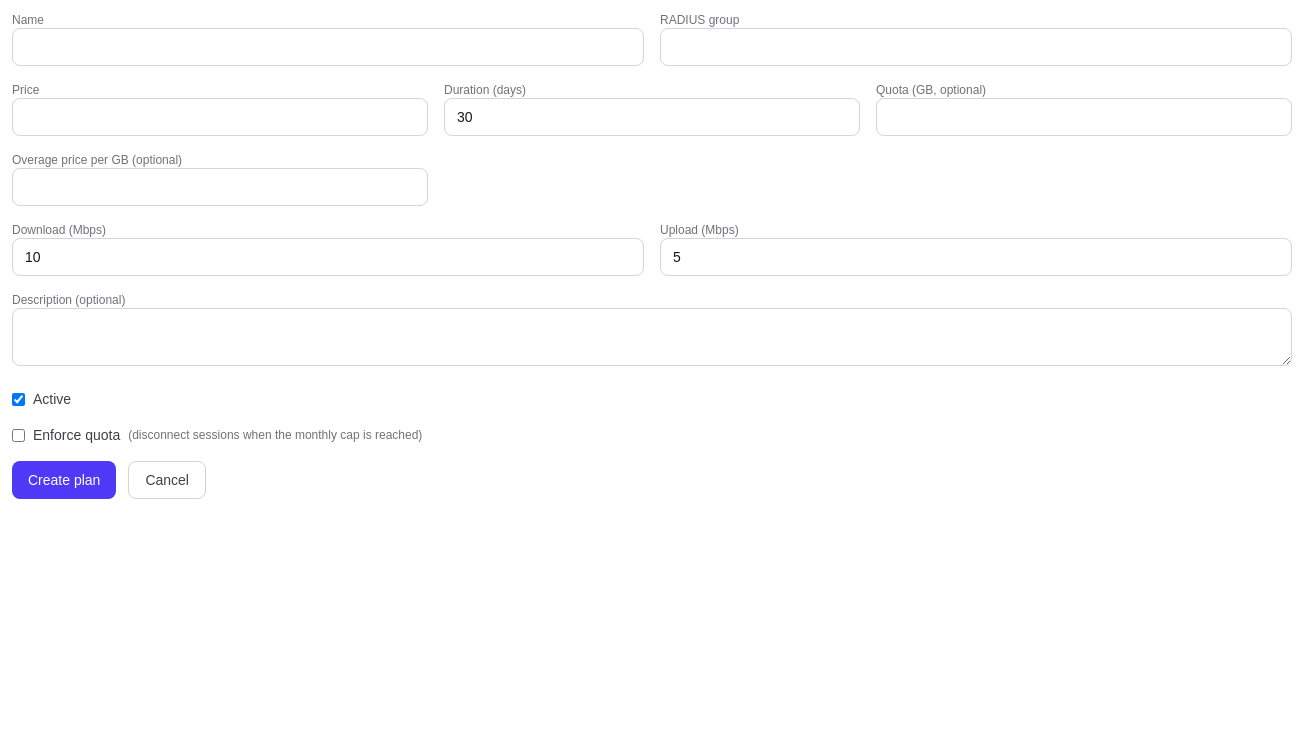
Test case: PlanForm (create) › shows the backend error and stays on the form
Type "Pro" into the field labelled "Name". click: coordinates (328, 47)
box: [12,28,644,66]
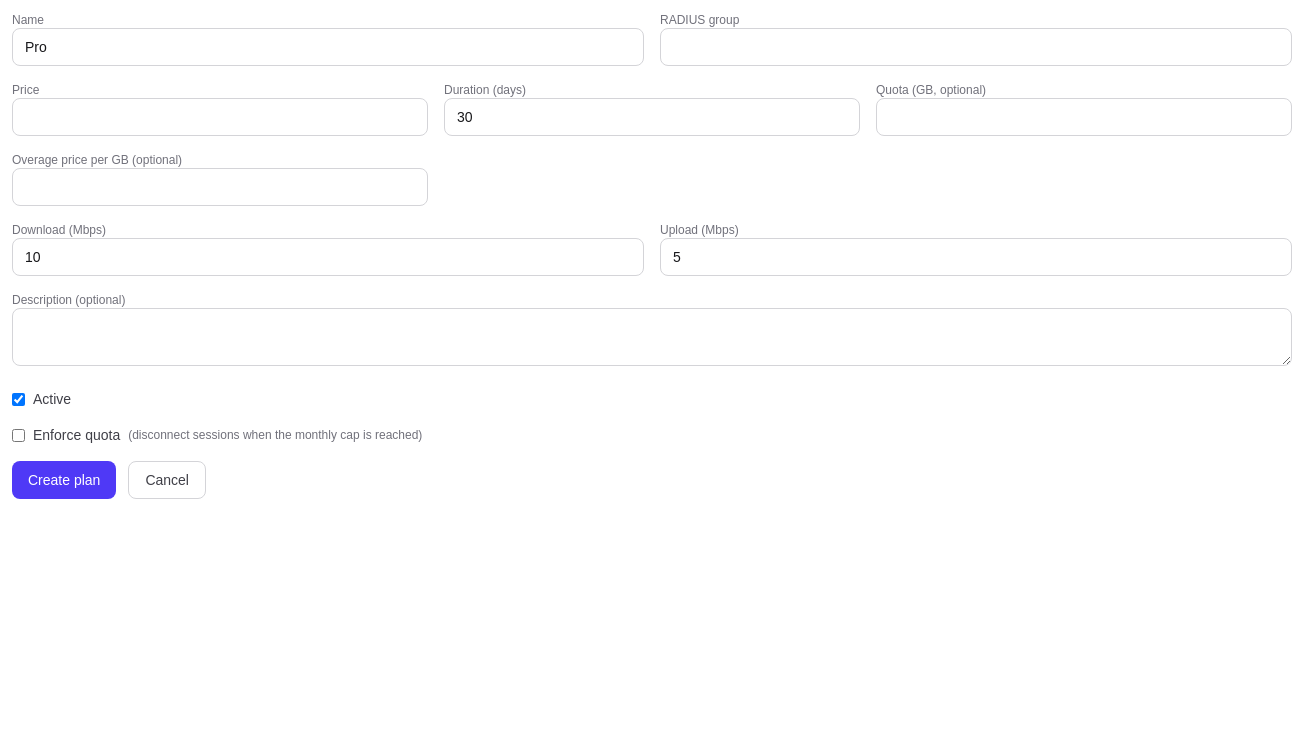
Type "rad_pro" into the field labelled "RADIUS group". click: coordinates (976, 47)
box: [660,28,1292,66]
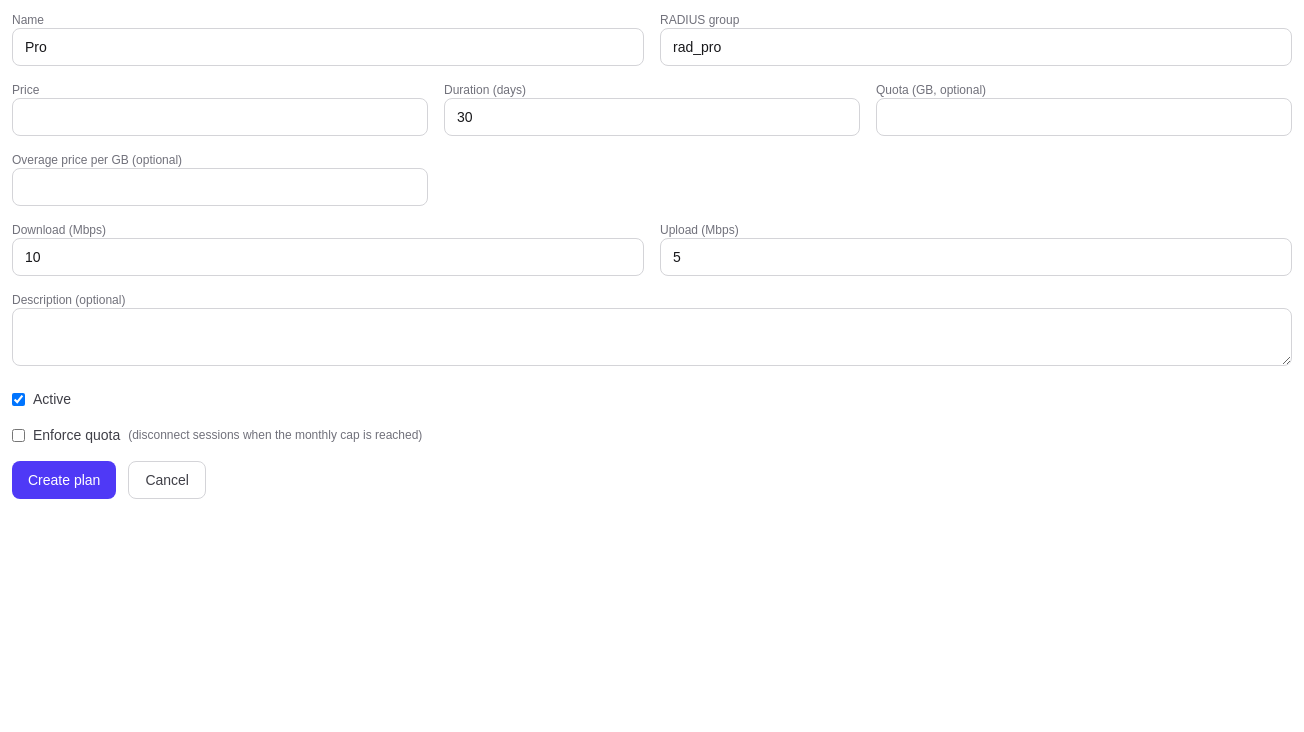
Type "19.99" into the field labelled "Price". click: coordinates (220, 117)
box: [12,98,428,136]
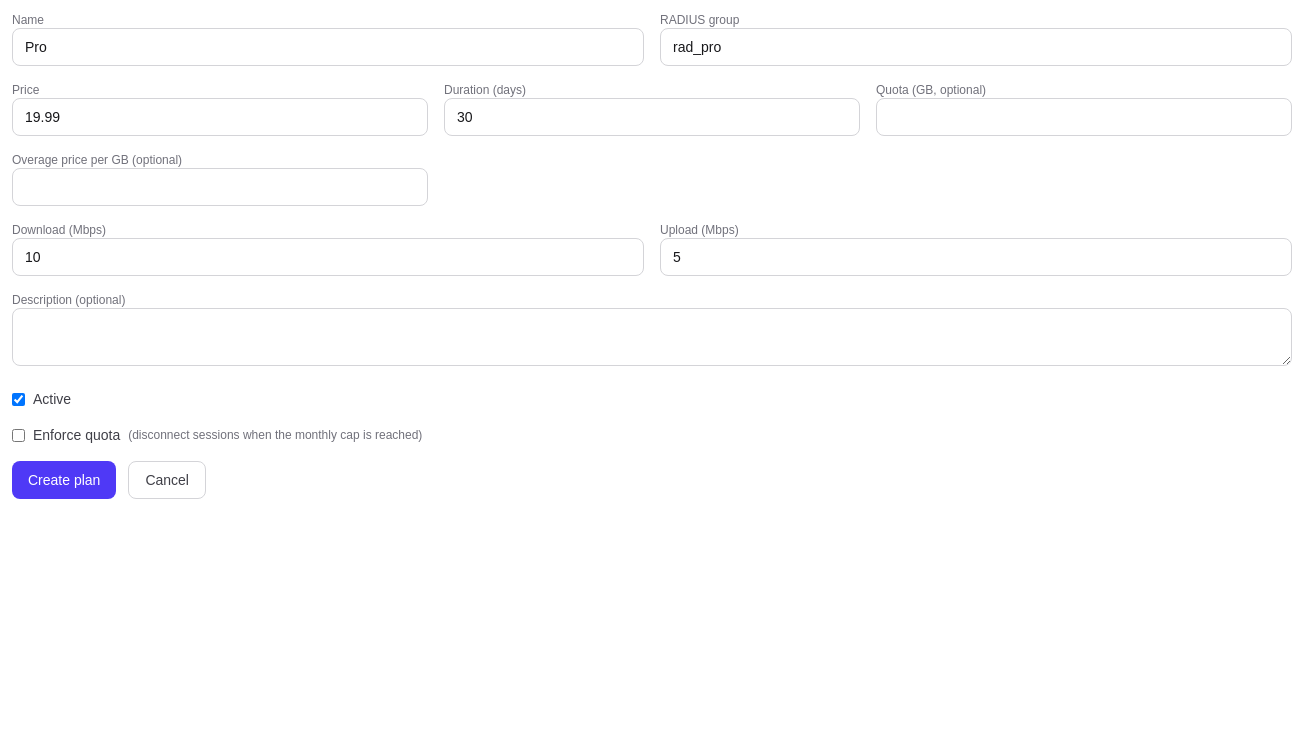
Click the button "Create plan". click: coordinates (64, 480)
box: [12,461,116,499]
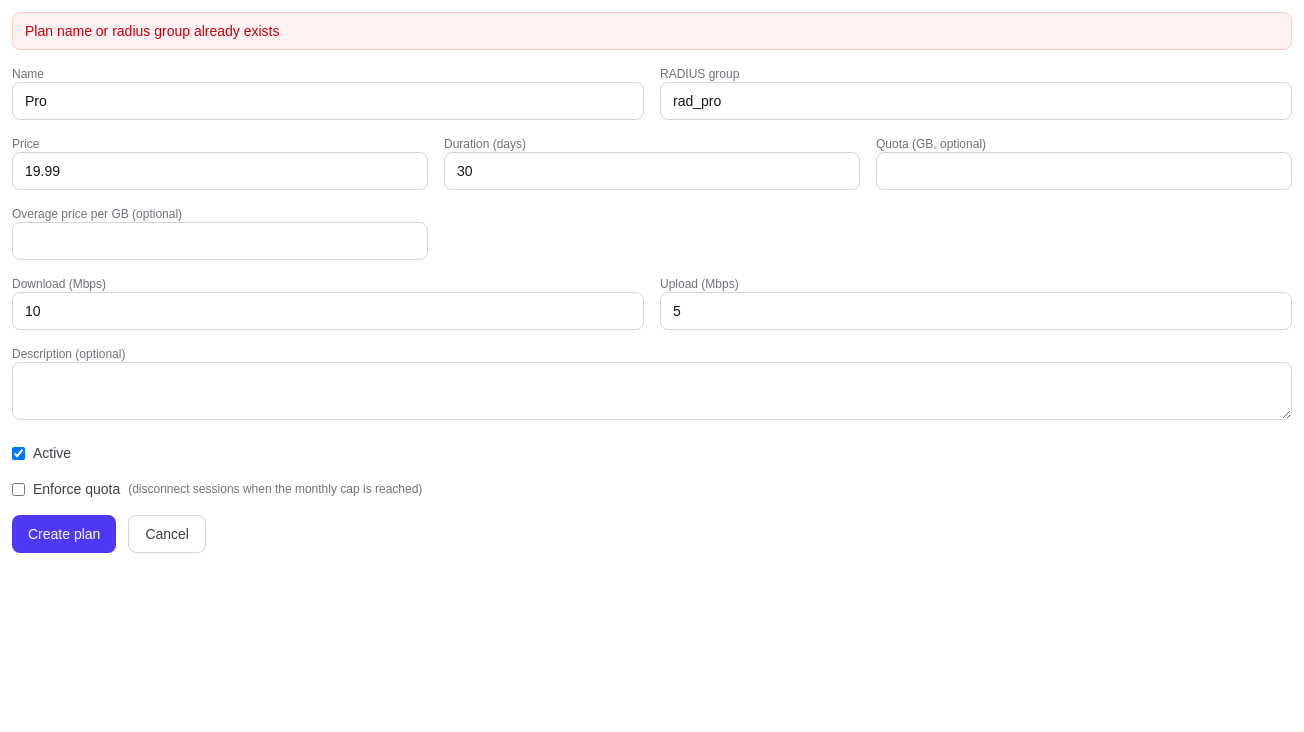
expect the message reads "Plan name or radius group already exists": met, box [25,23,280,39]
